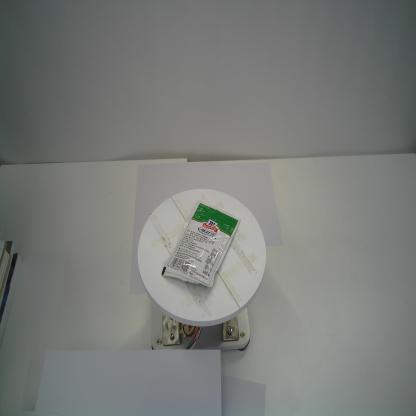Seasoner: (160, 201, 241, 289)
